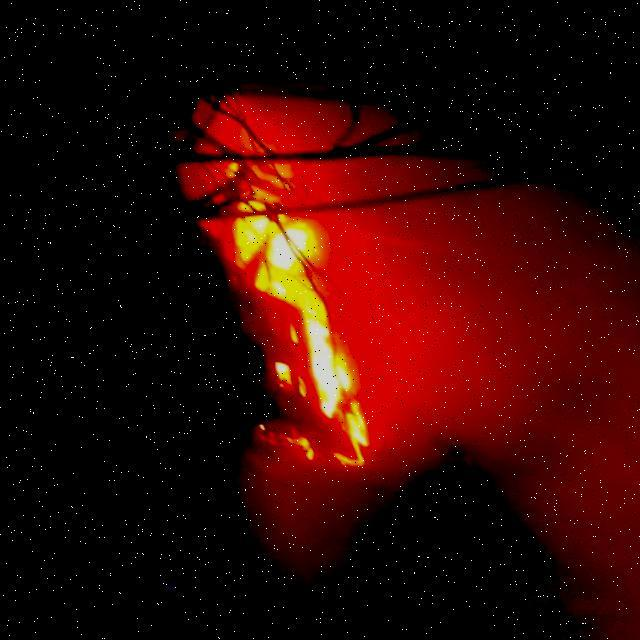Fire: (178, 146, 368, 472)
